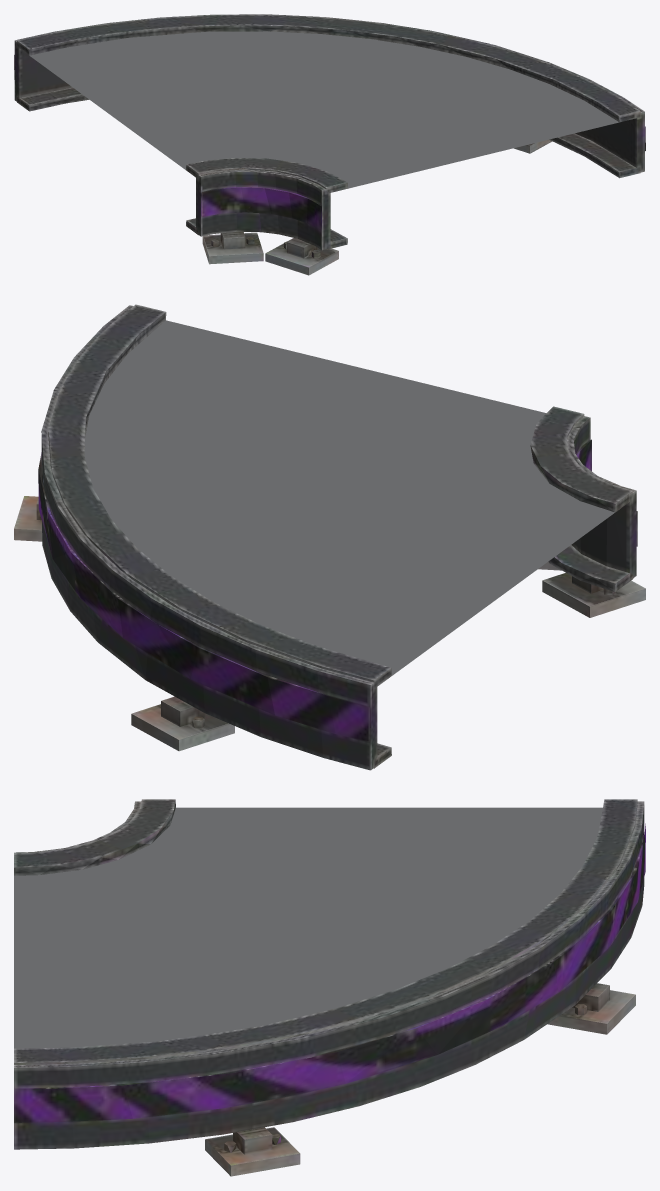
Rendered from esteira_curva_esq_quantica.glb.
3 renders of one model, top to bottom at view 1: azimuth 30°, elevation 25°; view 2: azimuth 150°, elevation 25°; view 3: azimuth 270°, elevation 25°, orthographic. The views are drawn at different scales.
Parts seen in each view (by area): view 1: esteira_curva_esq_quantica_corpo; view 2: esteira_curva_esq_quantica_corpo; view 3: esteira_curva_esq_quantica_corpo.
Part boxes in pixels (box(x1,y1,x2,y2)): esteira_curva_esq_quantica_corpo: box(14, 14, 645, 275); esteira_curva_esq_quantica_corpo: box(14, 304, 645, 770); esteira_curva_esq_quantica_corpo: box(14, 799, 645, 1176).
Bounding box in the file's own units: 0.841 × 0.168 × 0.841.
Materials: 2 (1 with a texture image).
